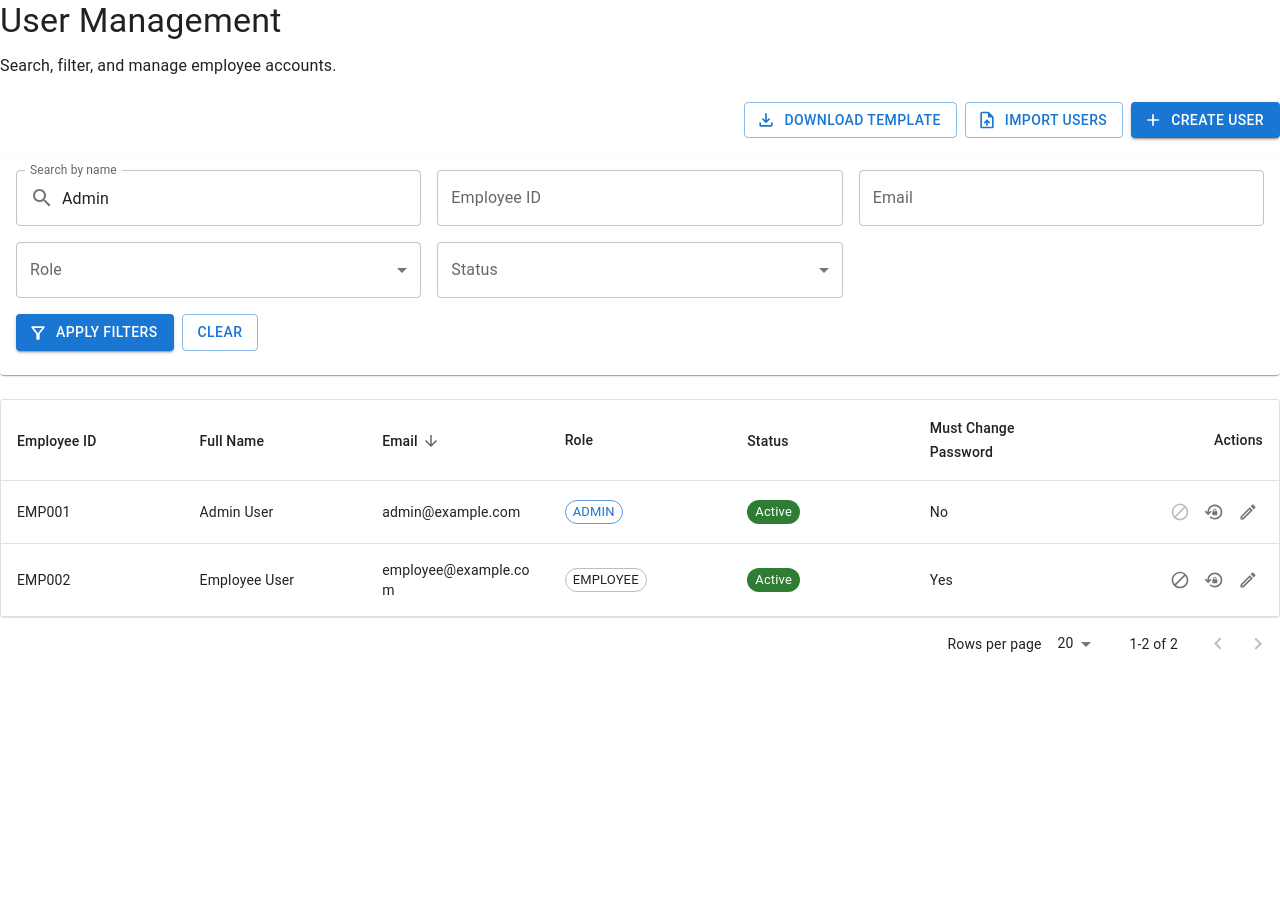
UserListPage › shows success snackbar after edit and preserves list query
This screenshot has width=1280, height=900.
Expected: the text "Admin User" is shown, top-left (200, 504), bottom-right (274, 520)
Click the button named "Edit user Admin User" at (1248,512), box top-left (1233, 497), bottom-right (1263, 527)
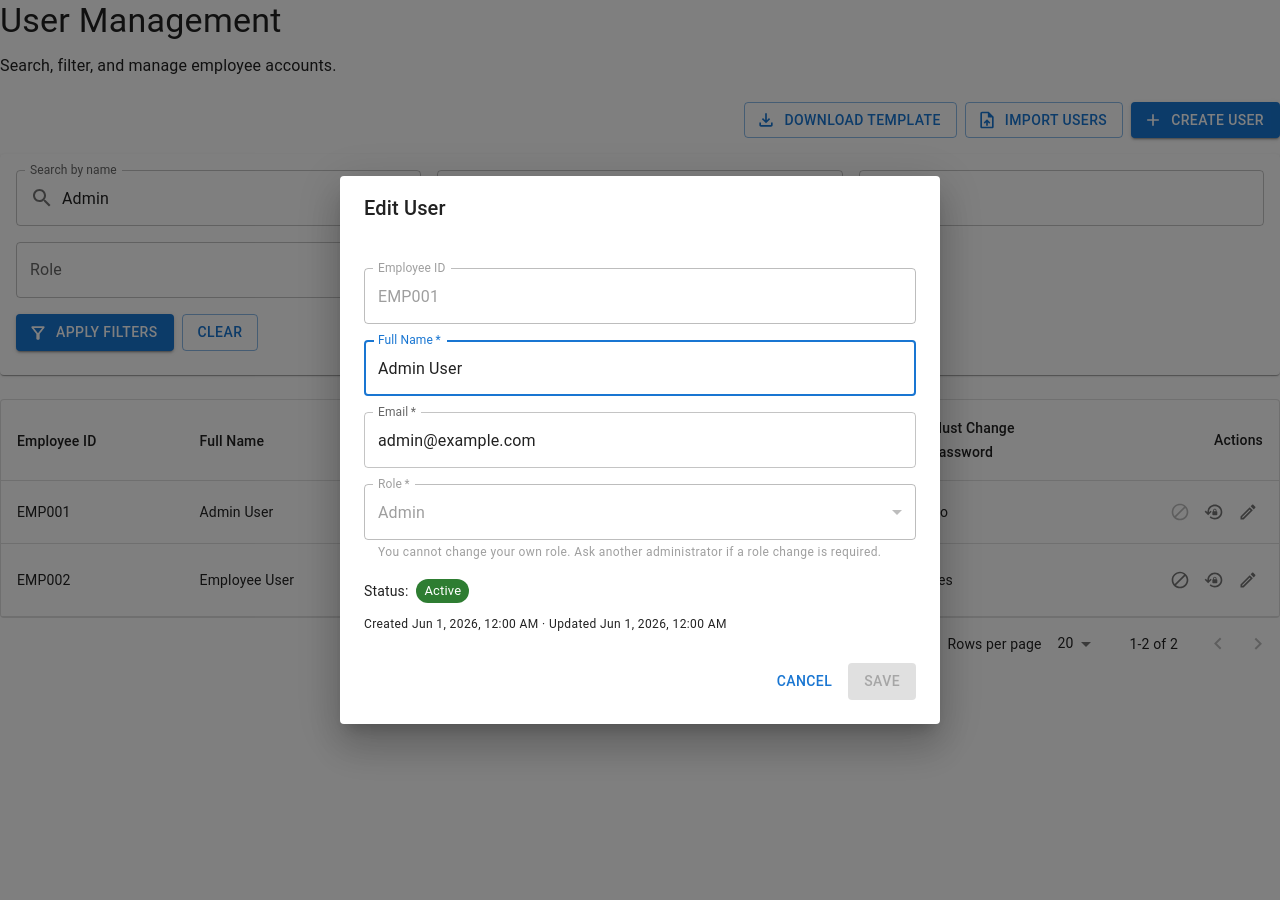
Expected: the field labelled "Full Name" is shown
Replace the text in the field labelled "Full Name" with "Updated Admin" at (640,368), box top-left (364, 340), bottom-right (916, 396)
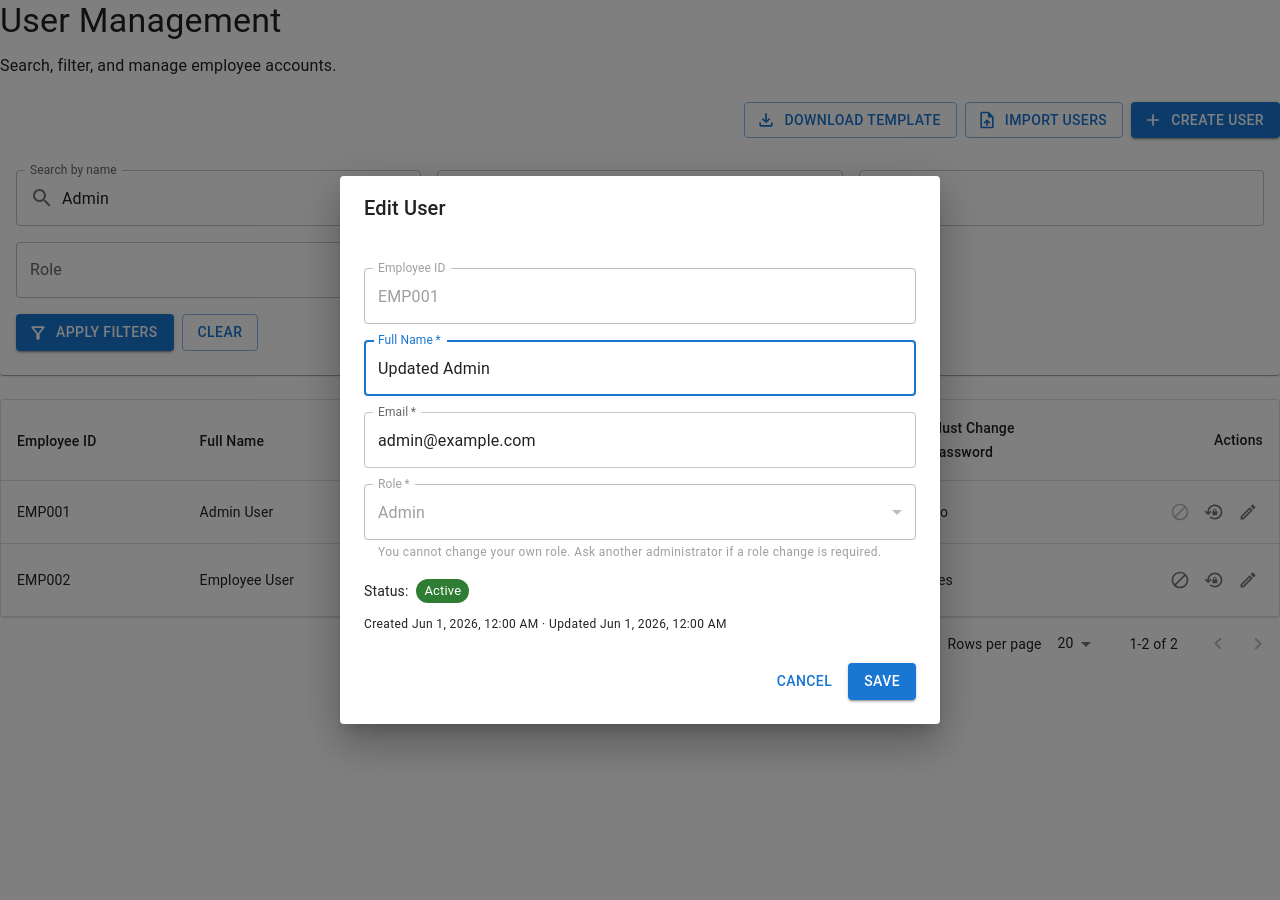
Click the button "Save" at (882,681), box top-left (848, 663), bottom-right (916, 700)
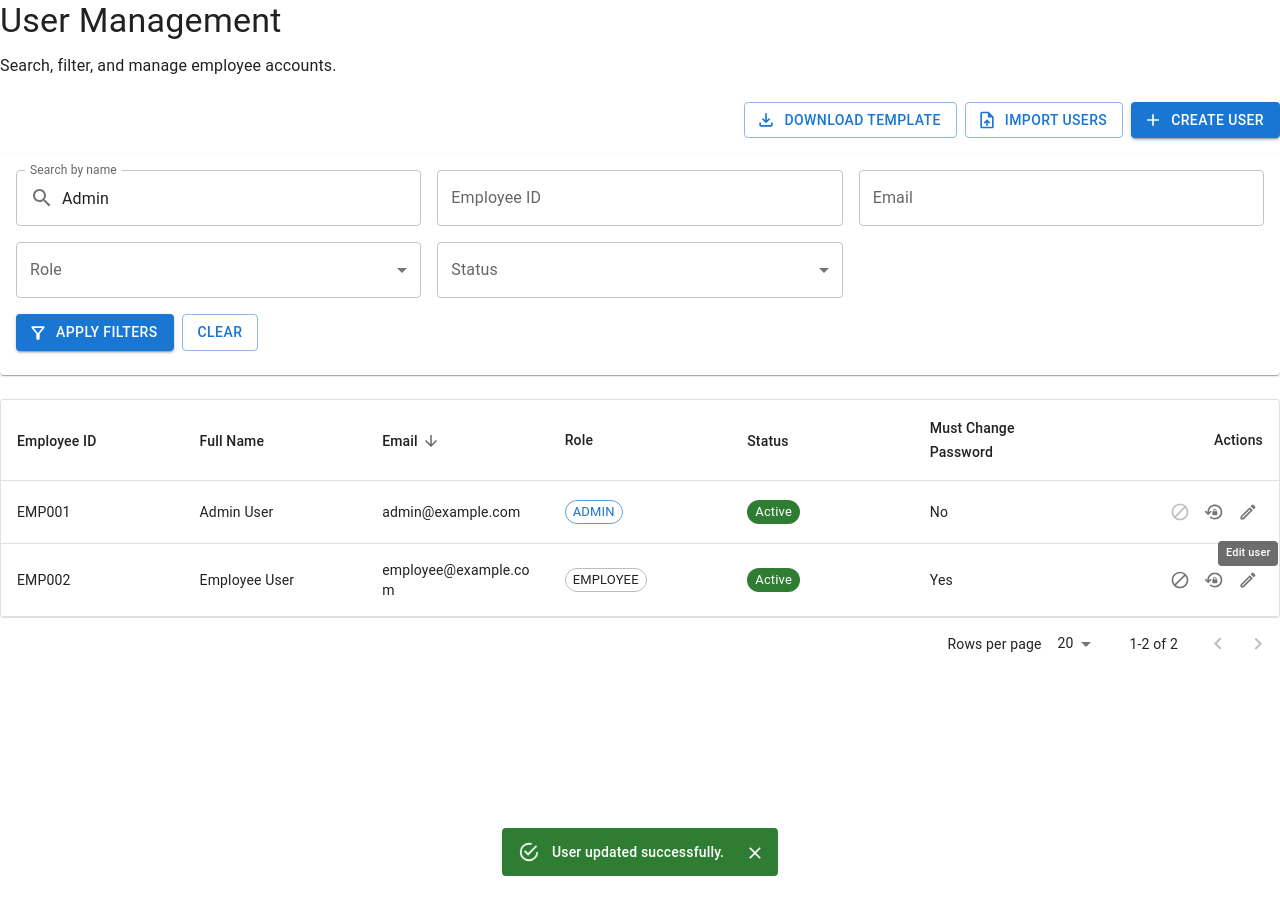
Expected: the message reads "User updated successfully.", top-left (552, 844), bottom-right (724, 860)
